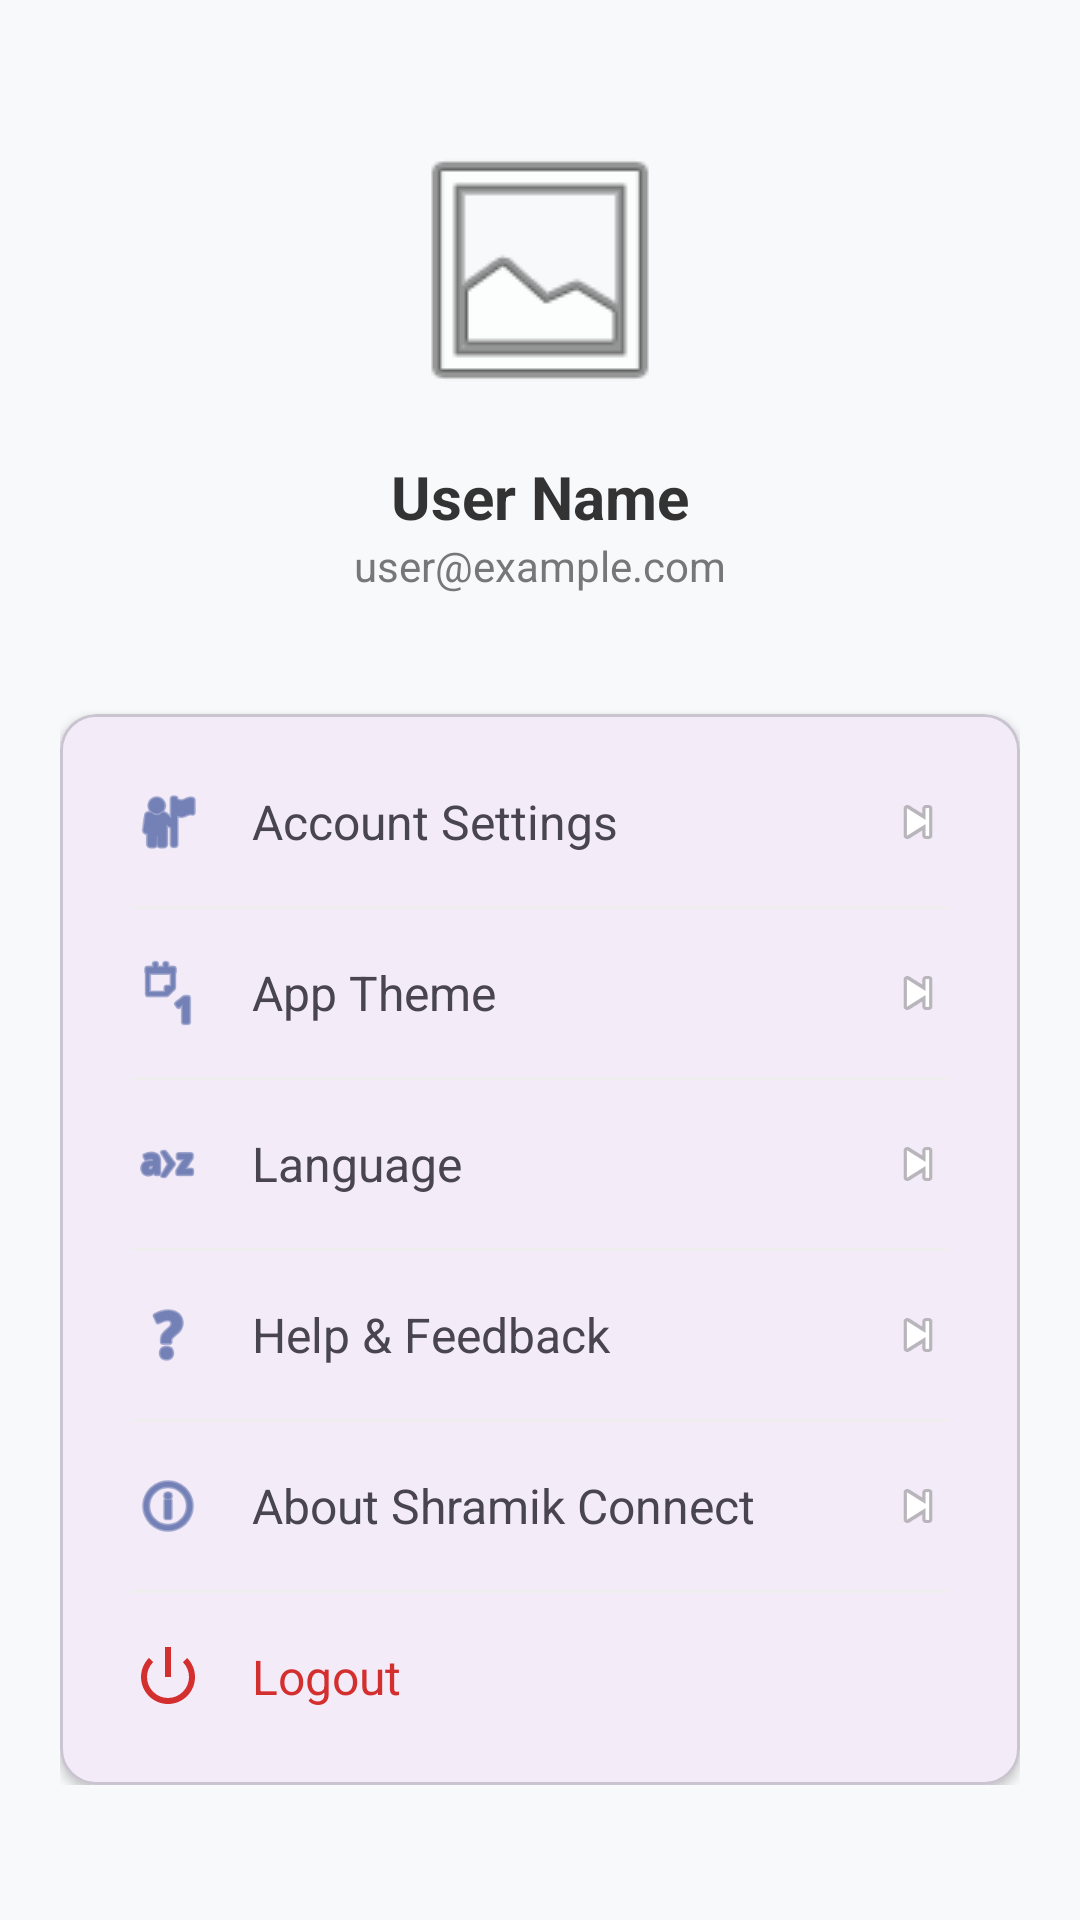

Icon bounding boxes for this 1080px×1920px phone screenshot, format (x1, y1, x2, y2):
day: (144, 961, 191, 1025)
gallery: (431, 161, 649, 379)
info details: (142, 1480, 194, 1532)
lock power off: (141, 1647, 195, 1704)
myplaces: (142, 795, 196, 849)
next: (903, 805, 933, 839), (903, 976, 933, 1010), (903, 1147, 933, 1181), (903, 1318, 933, 1352), (903, 1489, 933, 1523)
sort alphabetically: (140, 1150, 194, 1178)
